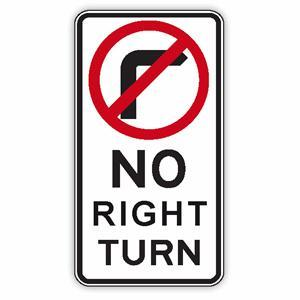No_right_turn: (88, 20, 209, 139)
